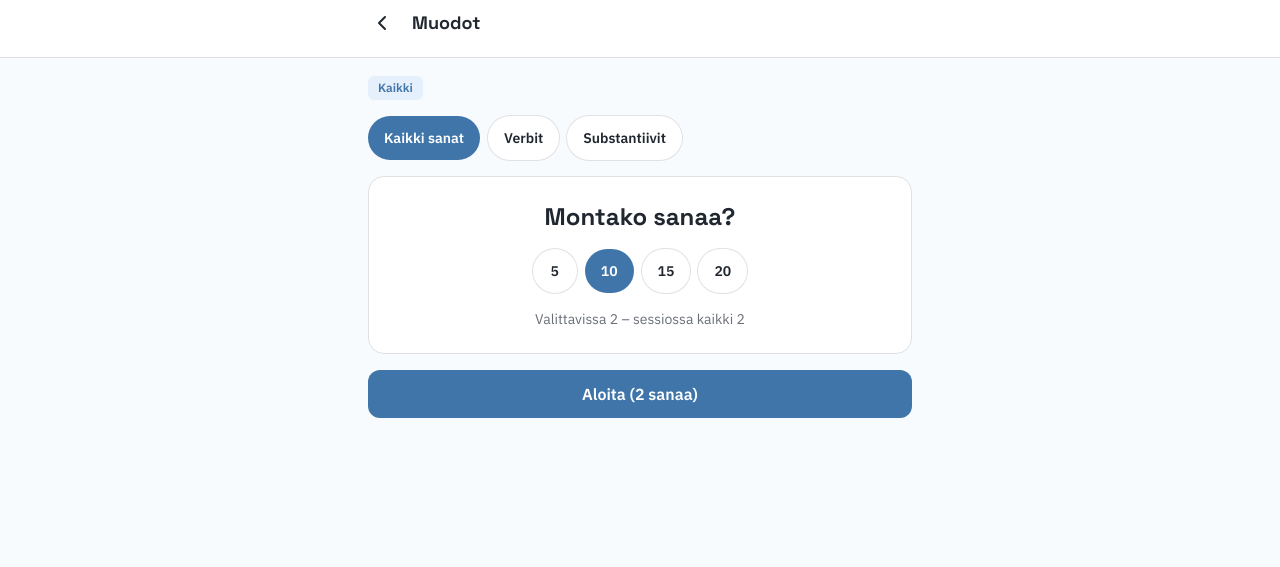
it: WordForms practice › picks the word set (Kaikki sanat / Verbit / Substantiivit) before the session
Expected: the text "Valittavissa 2 – sessiossa kaikki 2" is shown, [535,310,745,328]
Click the button "Verbit".
click(524, 138)  # box [488,116,559,160]
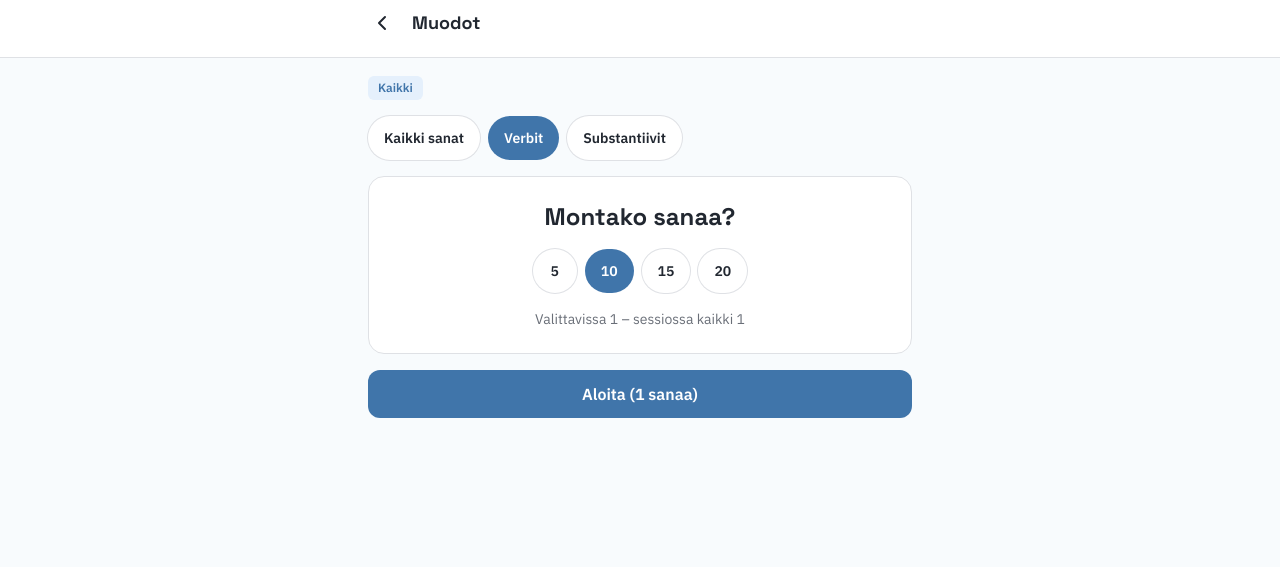
Expected: the text "Valittavissa 1 – sessiossa kaikki 1" is shown, [535,310,745,328]
Click the button "Aloita (1 sanaa)".
click(640, 394)  # box [368,370,912,418]
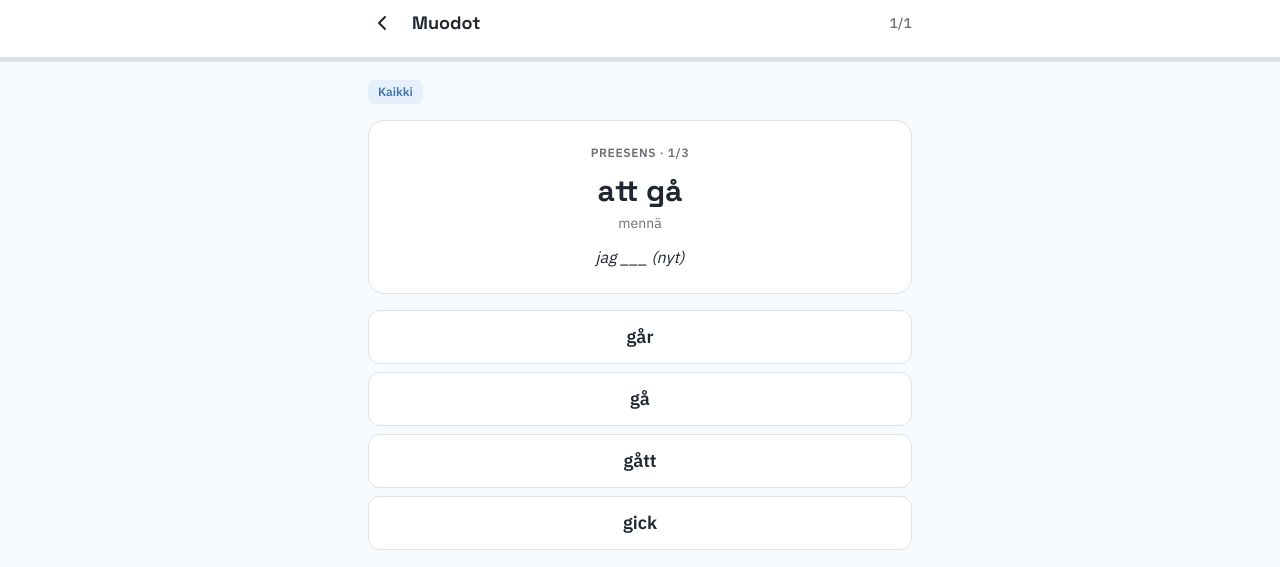
Expected: the text "att gå" is shown, [598,171,682,210]
Expected: the button "Substantiivit" is gone
